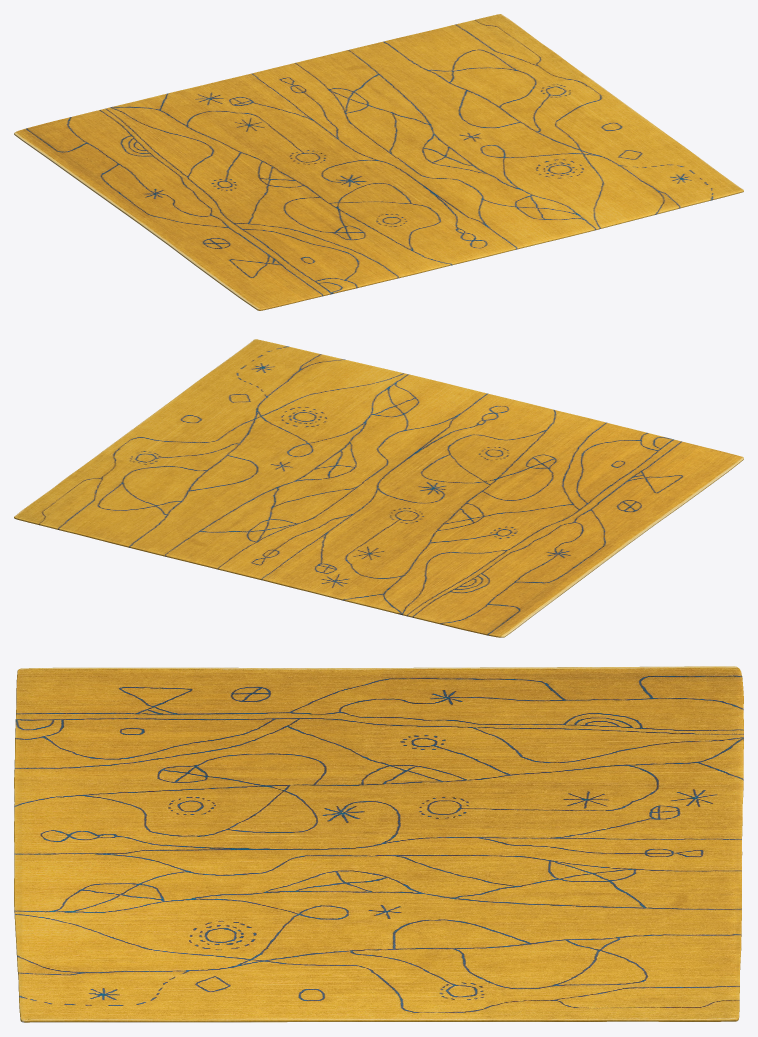
The model's file is Carpet.fbx.
The picture shows the model from 3 angles, top to bottom: view 1: azimuth 30°, elevation 25°; view 2: azimuth 150°, elevation 25°; view 3: azimuth 270°, elevation 25°; orthographic projection. The views are drawn at different scales.
Visible parts, largest first — view 1: Kuuma-YE_Rugs-Kristiina-Lassus_0; view 2: Kuuma-YE_Rugs-Kristiina-Lassus_0; view 3: Kuuma-YE_Rugs-Kristiina-Lassus_0.
Part boxes in pixels (bbox=[...]): Kuuma-YE_Rugs-Kristiina-Lassus_0: bbox=[14, 14, 743, 310]; Kuuma-YE_Rugs-Kristiina-Lassus_0: bbox=[14, 339, 743, 637]; Kuuma-YE_Rugs-Kristiina-Lassus_0: bbox=[14, 666, 743, 1022].
Size of the model in its own units: 242 by 0.8 by 211.
Materials: 2 (2 with a texture image).
